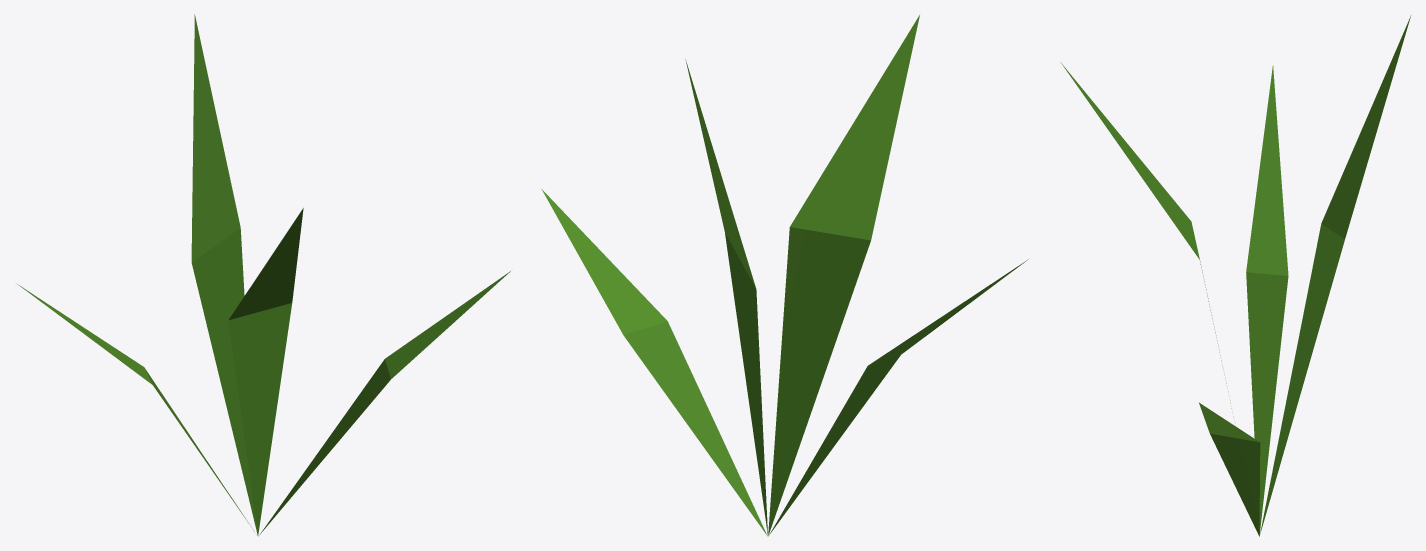
The model's file is grass.glb.
3 views of the same model, side by side, from view 1: azimuth 30°, elevation 25°; view 2: azimuth 150°, elevation 25°; view 3: azimuth 270°, elevation 25° (orthographic). The views are drawn at different scales.
Parts seen in each view (by area): view 1: grass.003; view 2: grass.003; view 3: grass.003.
Part boxes in pixels (x1,y1,x2,y2): grass.003: (16, 14, 510, 536); grass.003: (541, 15, 1028, 536); grass.003: (1060, 15, 1411, 536).
Size of the model in its own units: 0.488 by 0.4732 by 0.2873.
